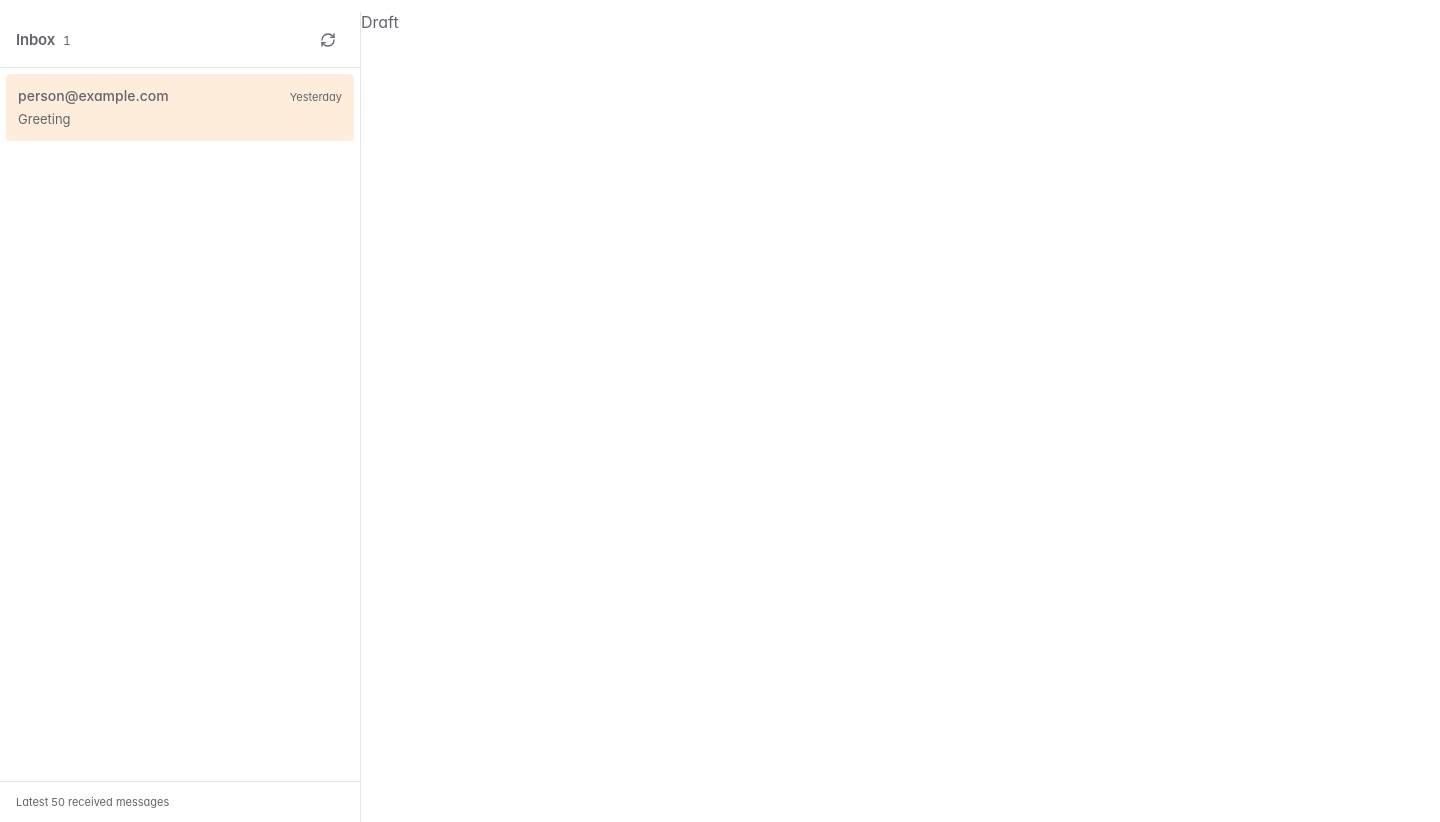
Test: keeps the conversation list beside compose and opens a selected conversation
Expected: the text named "Compose draft" is shown, [361,12,399,32]
Click the button "person@example.com Yesterday Greeting" at (93, 96), box [6,74,354,141]
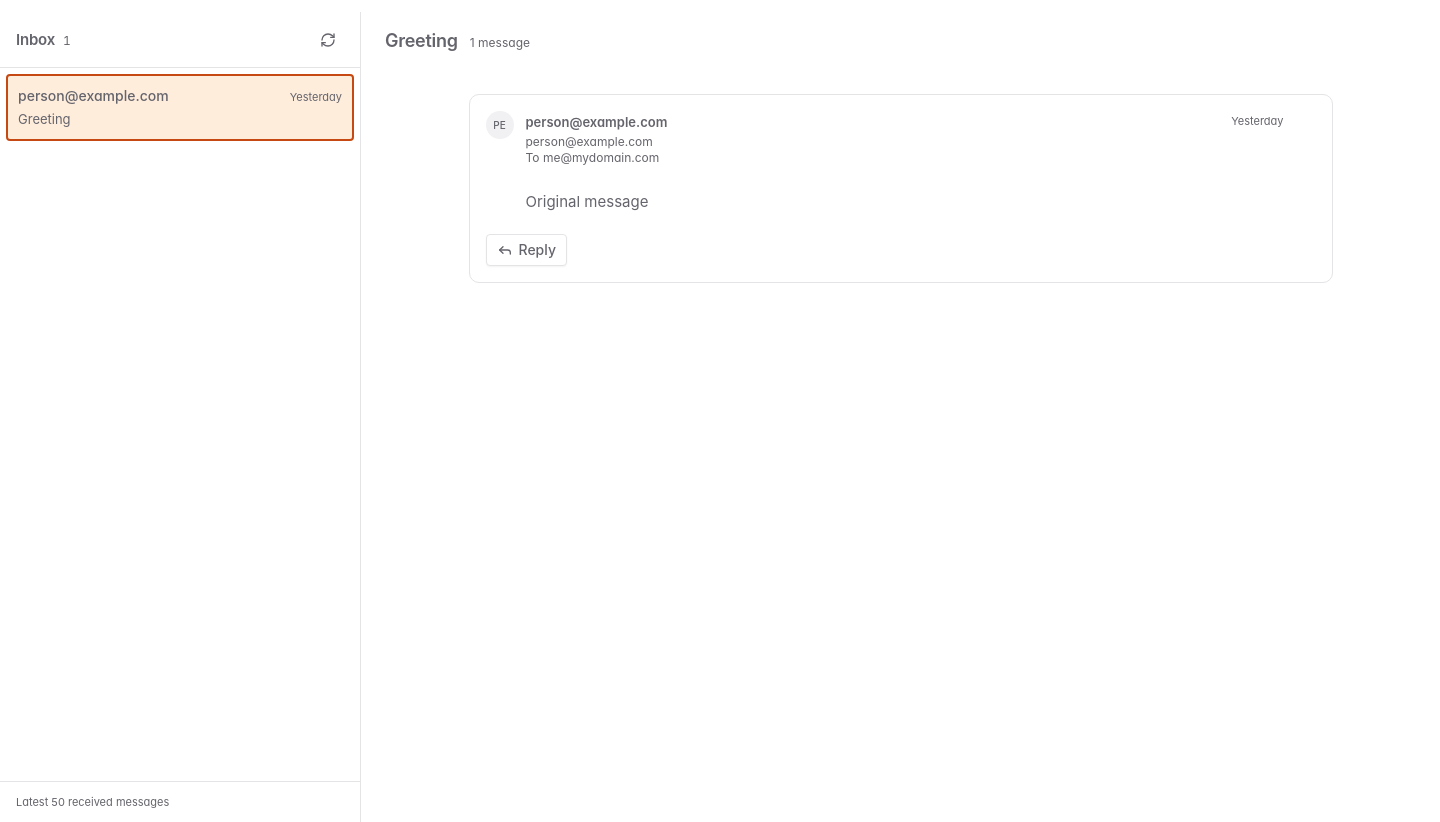
Expected: the text "Original message" is shown, [526,192,648,211]
